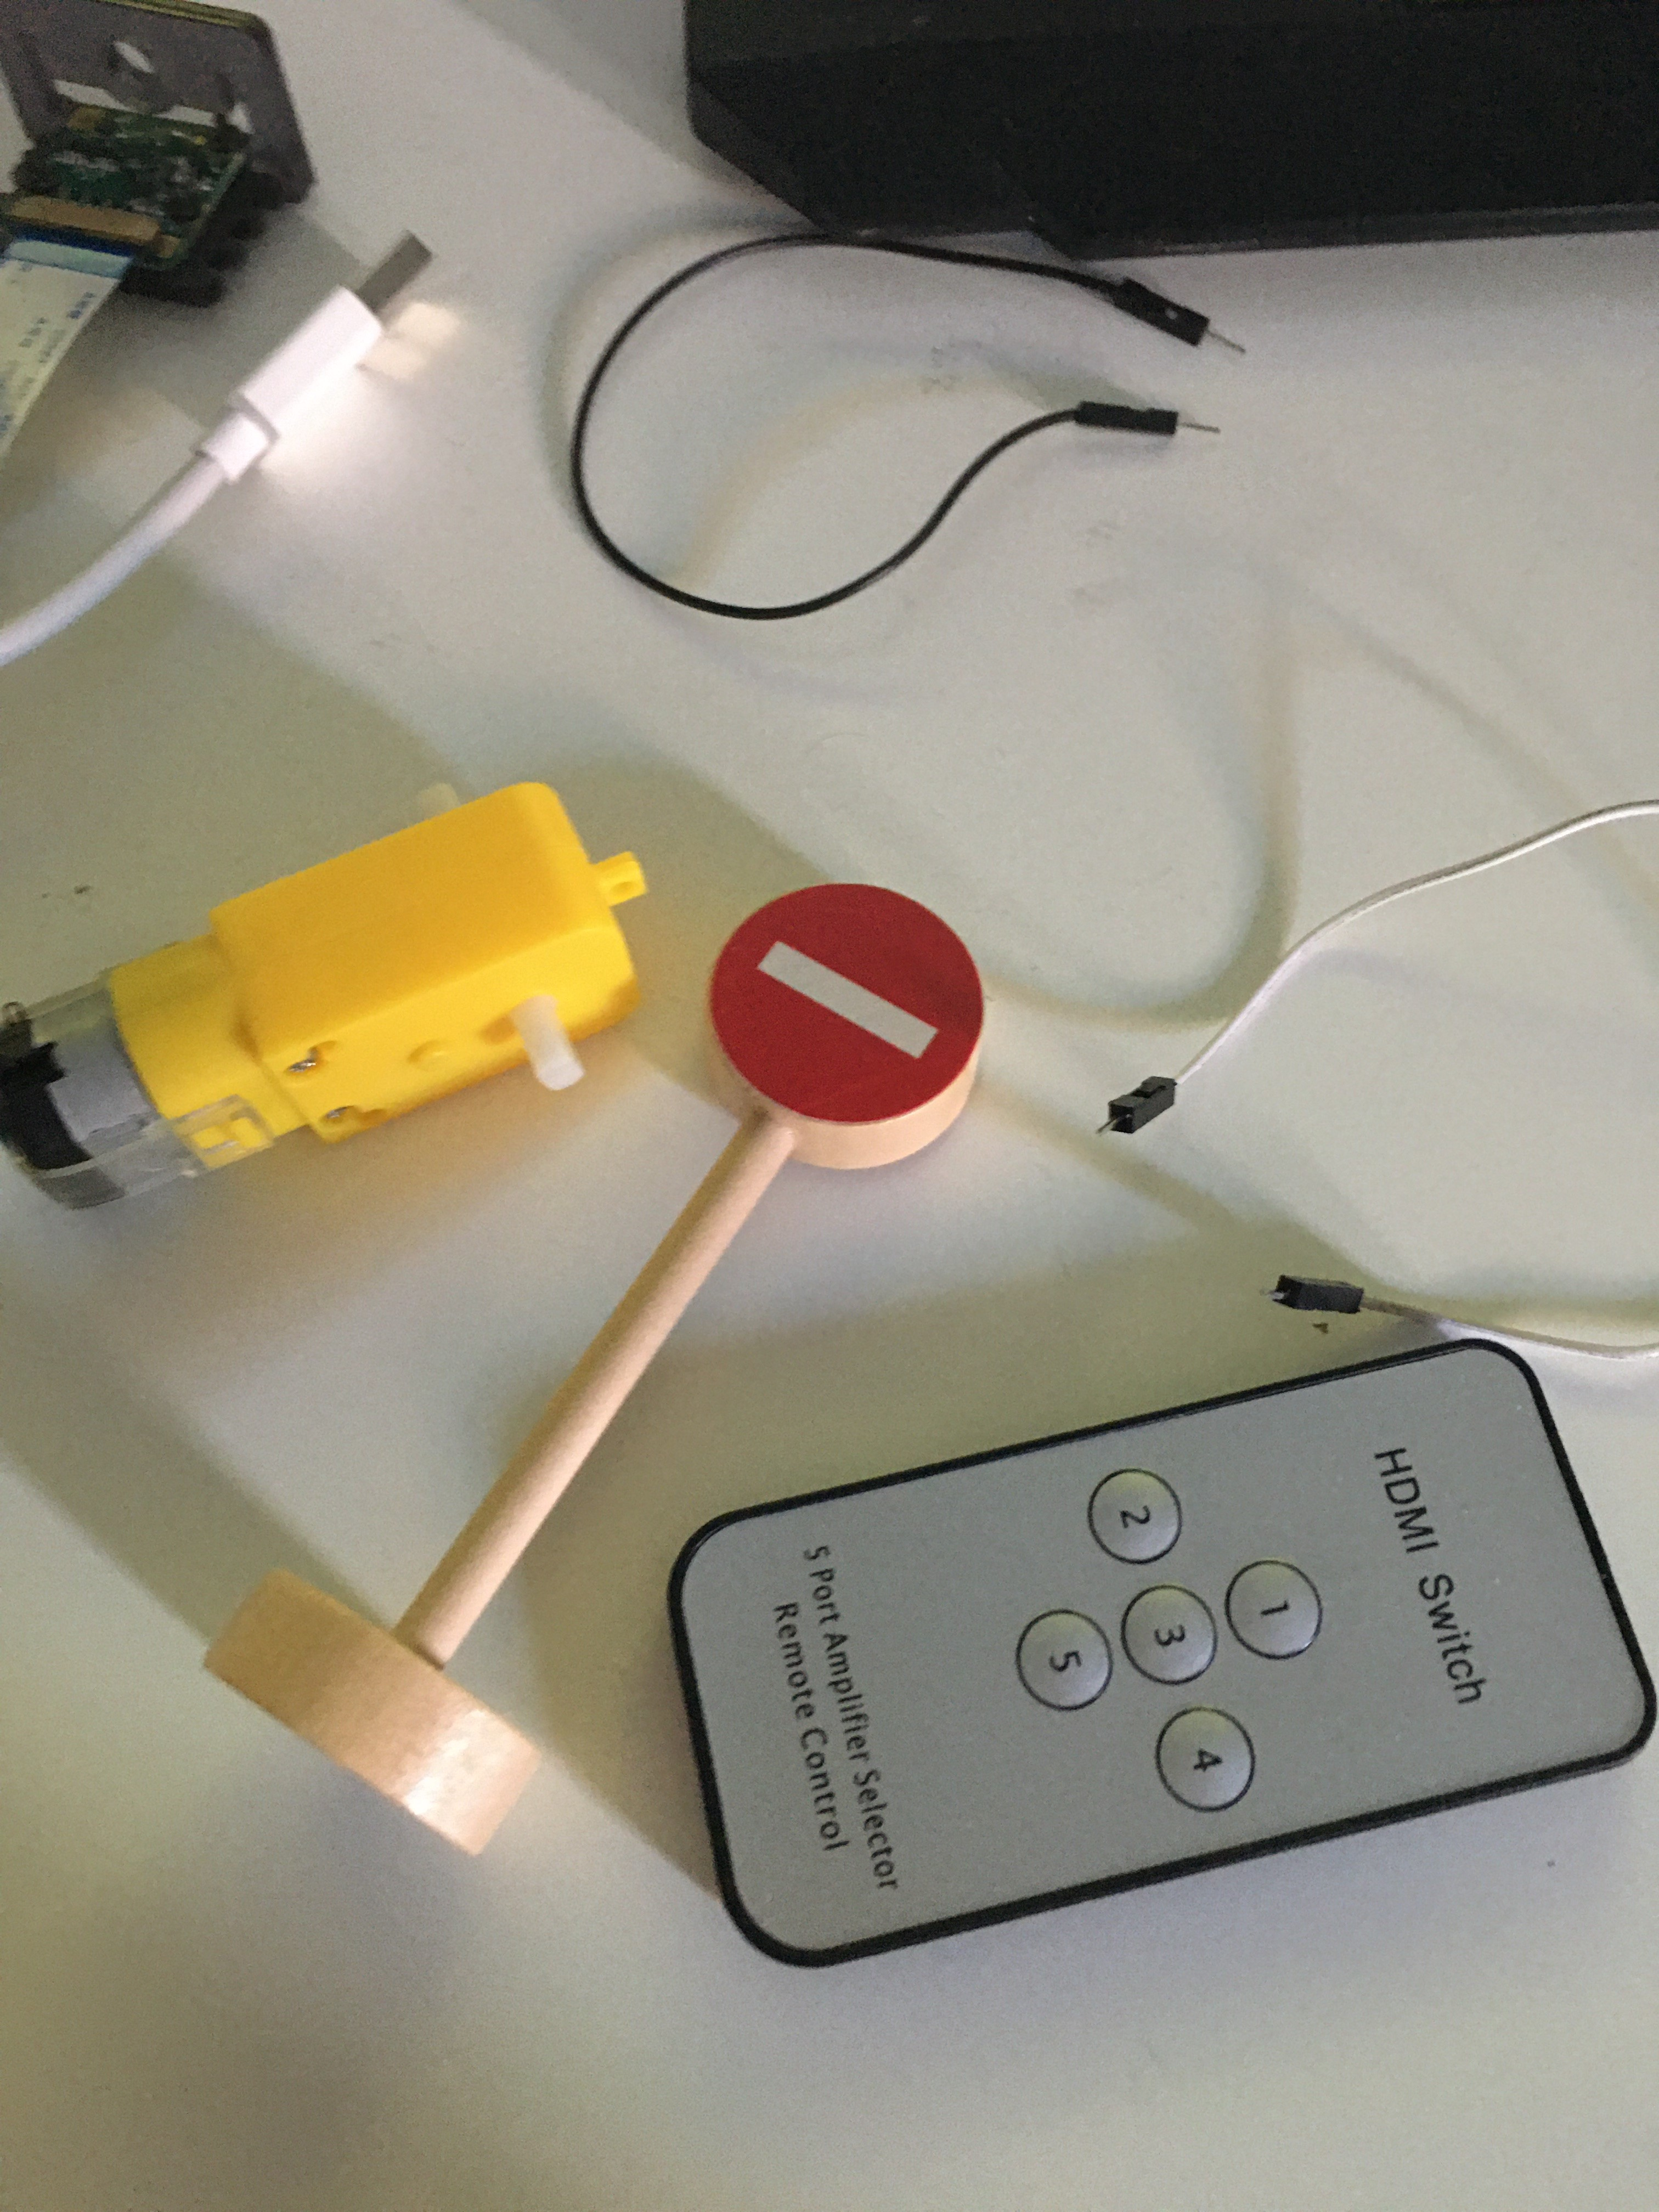Traffic_Sign_No_Entry: (701, 873, 986, 1132)
